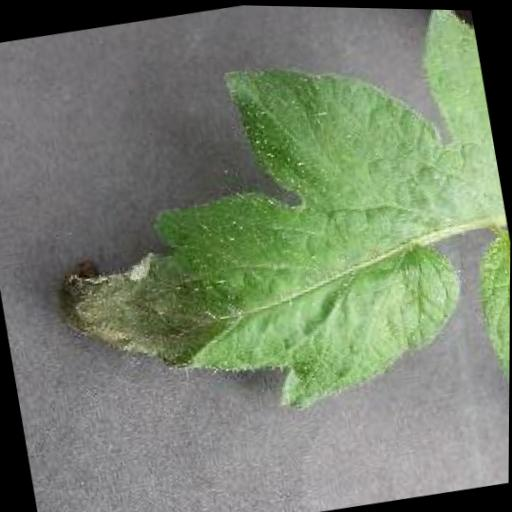Late Blight: (10, 0, 512, 451)
